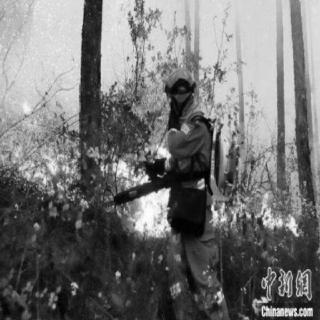Fire: (1, 2, 81, 204)
